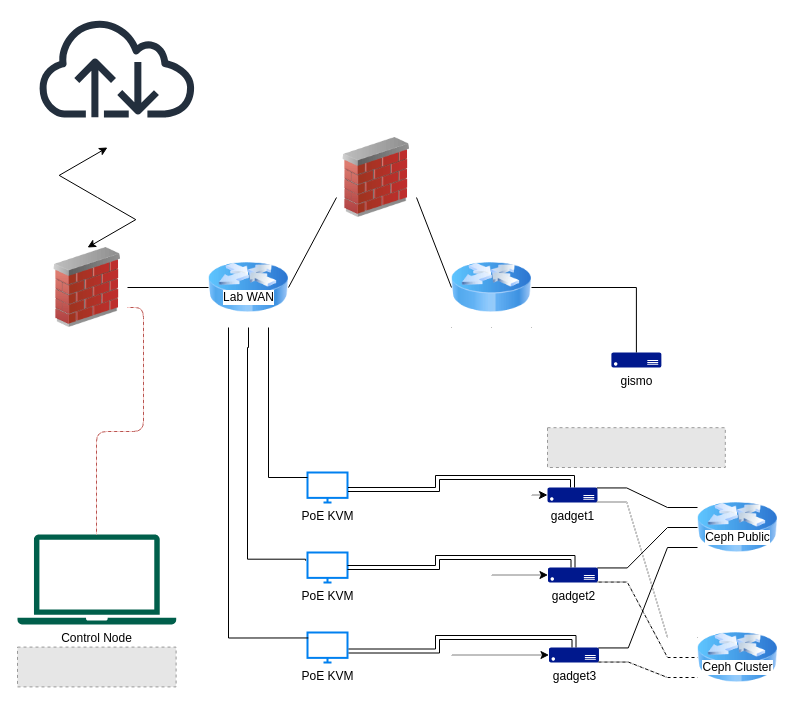
The diagram is 795 pixels wide and 714 high, and some of its shapes have lost their labels. Grey dashed boxes stand in for pictures. Each missing label, with the centre of its shape:
"Internet" goes at point (116, 67).
"Lab Firewall" goes at point (376, 177).
"Lab LAN" goes at point (491, 287).
"Site Firewall" goes at point (87, 287).
